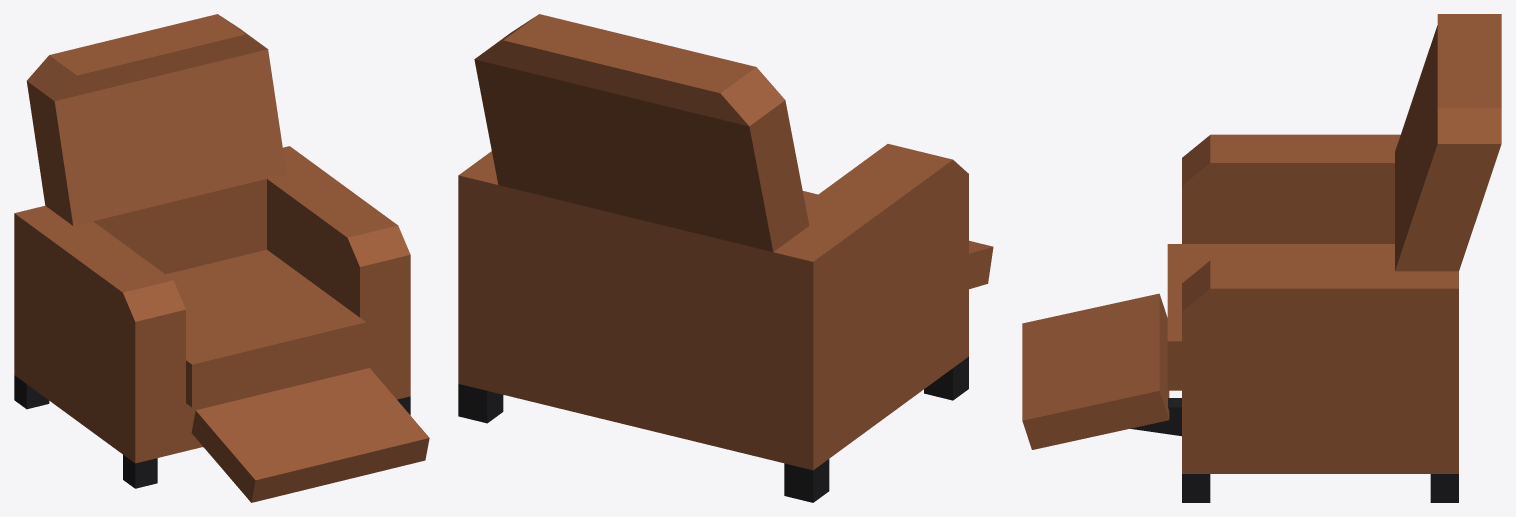
The model's file is pk_recl_cognac.glb.
3 renders of one model, left to right at view 1: azimuth 30°, elevation 25°; view 2: azimuth 150°, elevation 25°; view 3: azimuth 270°, elevation 25°, orthographic. The views are drawn at different scales.
Parts seen in each view (by area): view 1: pk_recl_cognac; view 2: pk_recl_cognac; view 3: pk_recl_cognac.
Part boxes in pixels (box(x1,y1,x2,y2)): pk_recl_cognac: box(14, 14, 429, 502); pk_recl_cognac: box(458, 14, 993, 502); pk_recl_cognac: box(1022, 14, 1501, 502).
Size of the model in its own units: 0.95 by 1.05 by 1.25.
Materials: 1 (1 with a texture image).
